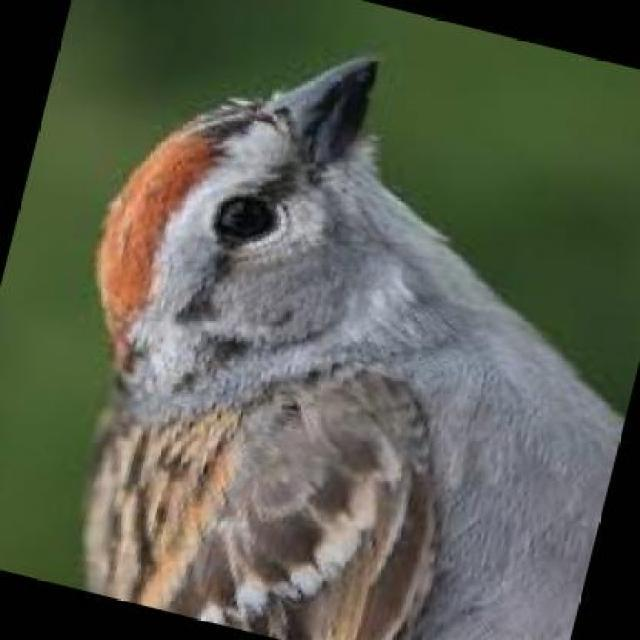Bird: (88, 50, 608, 622)
